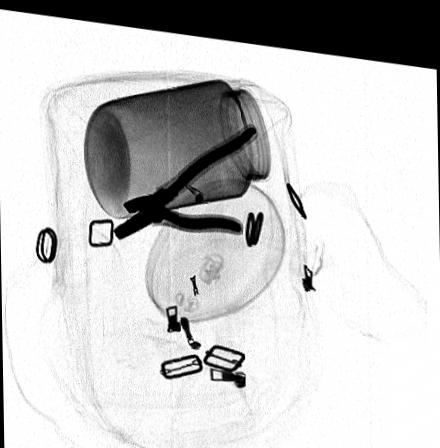Pliers: (109, 113, 261, 238)
